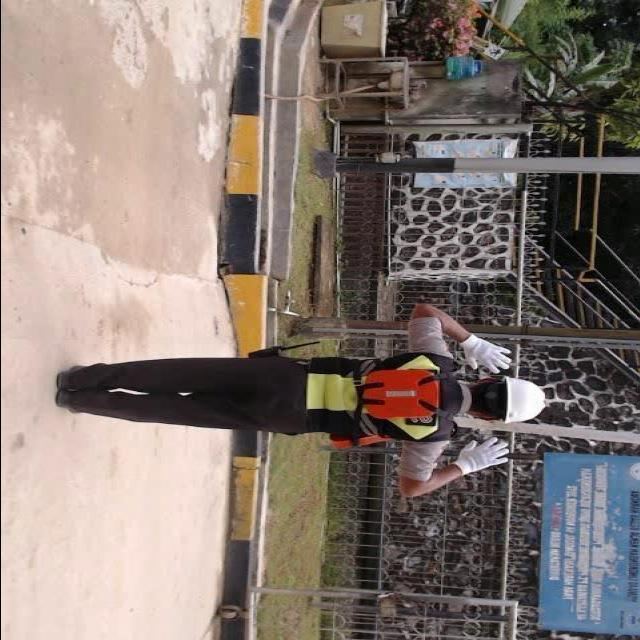helmet: (500, 372, 548, 428)
jacket: (302, 341, 454, 453)
